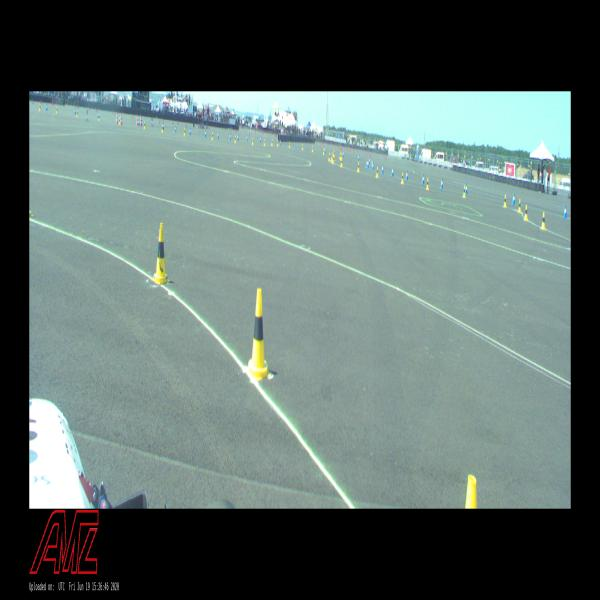blue_cone: (465, 184, 468, 194), (564, 206, 566, 217), (441, 178, 443, 189), (512, 194, 514, 204), (422, 174, 424, 184), (406, 171, 408, 180), (392, 167, 394, 176), (372, 162, 374, 170), (367, 160, 369, 168), (138, 119, 140, 126), (366, 160, 368, 167), (368, 157, 370, 164), (246, 135, 248, 141), (217, 132, 219, 138), (324, 148, 326, 153), (382, 164, 383, 173), (342, 152, 344, 156), (190, 128, 191, 135), (205, 130, 206, 137), (175, 126, 176, 132), (230, 134, 231, 140), (46, 104, 47, 110), (358, 155, 359, 161), (75, 108, 76, 114), (260, 137, 261, 142), (280, 140, 281, 144), (238, 134, 238, 141), (98, 113, 98, 119), (372, 159, 372, 166)
large_orange_cone: (120, 114, 123, 124), (116, 112, 118, 124), (140, 115, 142, 126), (137, 115, 138, 125)
yellow_cone: (247, 289, 271, 379), (154, 223, 168, 284), (542, 212, 546, 229), (524, 205, 528, 220), (518, 200, 521, 212), (426, 178, 429, 190), (401, 172, 404, 183), (504, 195, 506, 207), (340, 158, 343, 166), (463, 186, 465, 197), (376, 167, 378, 177), (358, 162, 360, 172), (328, 153, 330, 161), (332, 155, 334, 163), (331, 152, 333, 160), (271, 140, 273, 146), (277, 140, 279, 146), (144, 122, 146, 128), (252, 138, 254, 144), (39, 104, 41, 110), (339, 153, 341, 159), (212, 132, 213, 140), (184, 128, 185, 136), (56, 106, 57, 113), (162, 125, 163, 132), (119, 117, 120, 124), (76, 110, 77, 117), (99, 113, 100, 120), (264, 139, 265, 145), (289, 142, 290, 148), (312, 146, 313, 152), (235, 136, 236, 142), (341, 153, 342, 159), (302, 144, 303, 149), (334, 151, 334, 157)
